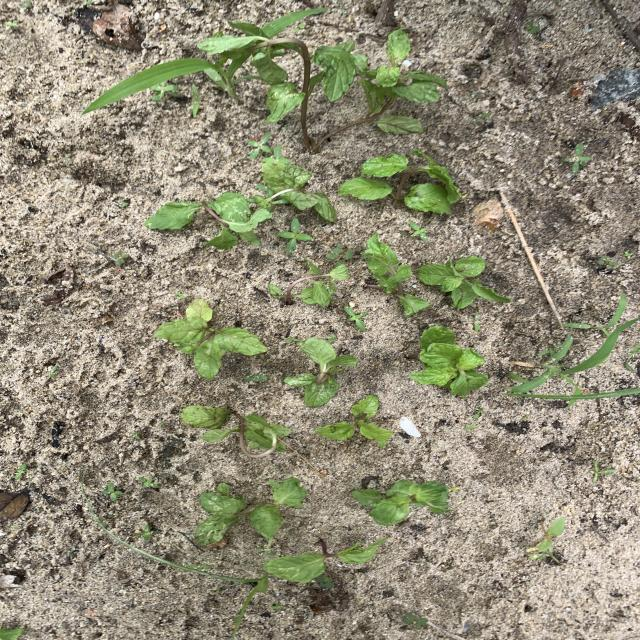crop: (199, 29, 446, 149), (154, 300, 266, 378), (340, 151, 466, 212), (144, 192, 271, 249), (196, 479, 305, 544), (251, 157, 336, 222), (182, 406, 290, 454), (411, 327, 487, 395), (364, 233, 427, 315), (285, 338, 357, 406), (266, 540, 383, 581), (418, 257, 509, 307), (353, 480, 456, 523), (316, 396, 391, 446), (269, 259, 347, 305), (0, 629, 23, 639)
weed: (100, 523, 268, 640), (506, 320, 636, 395), (84, 59, 245, 111), (262, 9, 327, 36), (528, 517, 564, 561), (278, 218, 311, 251), (563, 143, 591, 172), (150, 81, 179, 102), (609, 293, 627, 326), (249, 133, 271, 158), (590, 461, 615, 482), (327, 245, 360, 260), (346, 307, 366, 329), (102, 482, 123, 499), (554, 339, 570, 360), (136, 524, 158, 539), (266, 199, 291, 212), (410, 221, 427, 240), (403, 614, 427, 627), (599, 255, 618, 269), (192, 84, 199, 117), (139, 476, 159, 487), (112, 251, 127, 264), (317, 575, 333, 587), (15, 464, 26, 479), (477, 112, 491, 123), (245, 374, 266, 381), (526, 22, 539, 32), (473, 312, 479, 331), (49, 366, 58, 377), (134, 440, 145, 448), (474, 408, 483, 417), (22, 1, 31, 7), (119, 201, 127, 207), (131, 432, 139, 438), (466, 424, 475, 429)
